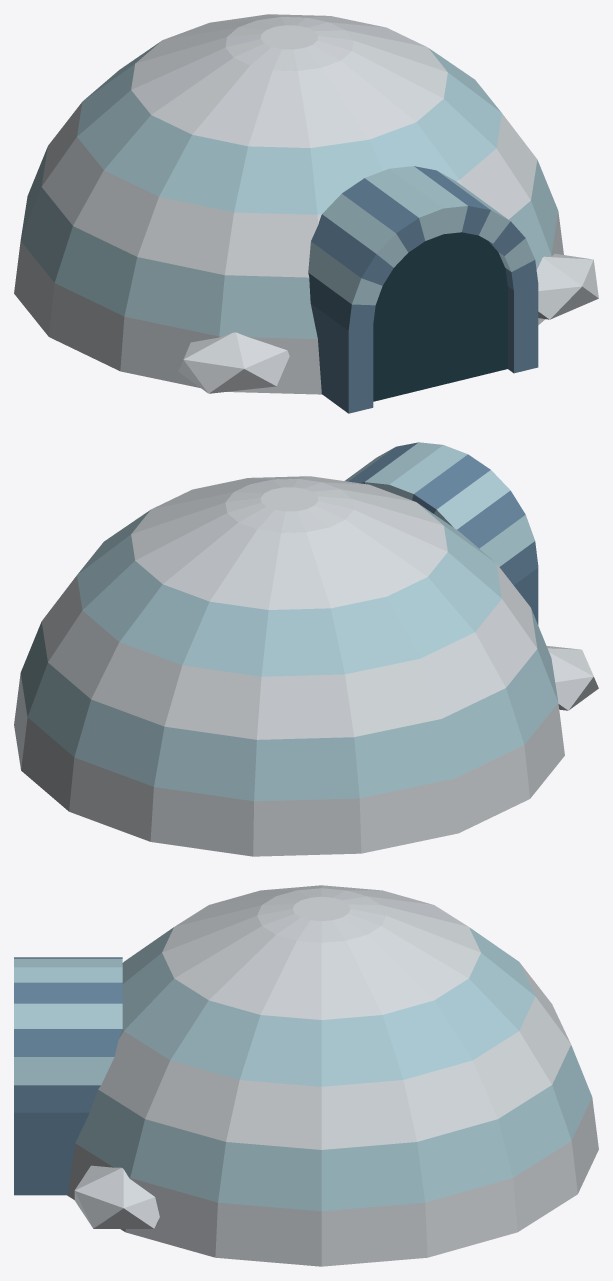
File: Frosty_Igloo_Standard.glb
3 views of the same model, one above another, from view 1: azimuth 30°, elevation 25°; view 2: azimuth 150°, elevation 25°; view 3: azimuth 270°, elevation 25° (orthographic).
Visible parts, largest first — view 1: Frosty_Igloo_Standard; view 2: Frosty_Igloo_Standard; view 3: Frosty_Igloo_Standard.
Boxes of the visible parts, x1=… form: Frosty_Igloo_Standard: x1=14, y1=14, x2=598, y2=413; Frosty_Igloo_Standard: x1=14, y1=442, x2=598, y2=856; Frosty_Igloo_Standard: x1=14, y1=885, x2=598, y2=1266.
Size of the model in its own units: 2.3 by 1.1 by 2.42.
